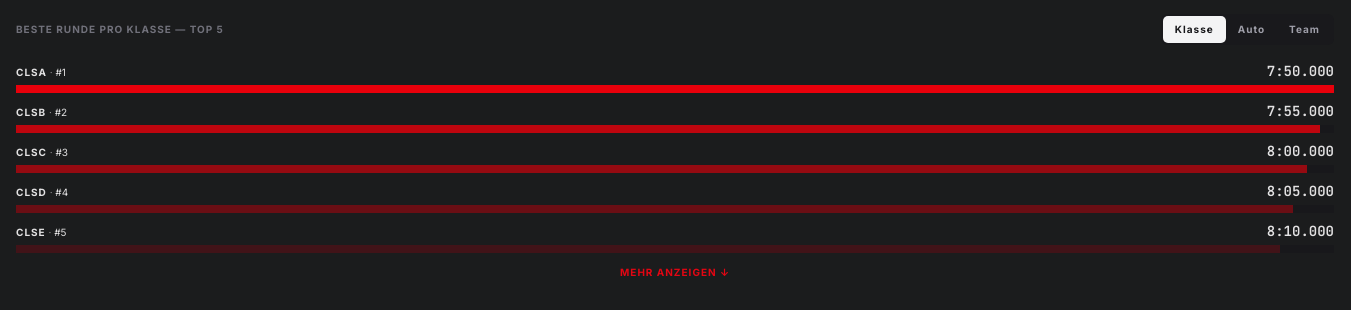
Test: BestLapPerClassChart › mobile expander › expands to all rows and reverts heading when the button is clicked
Step 1. Click the button with test id "best-lap-expand" → (675, 272), box [16,253,1334,292]
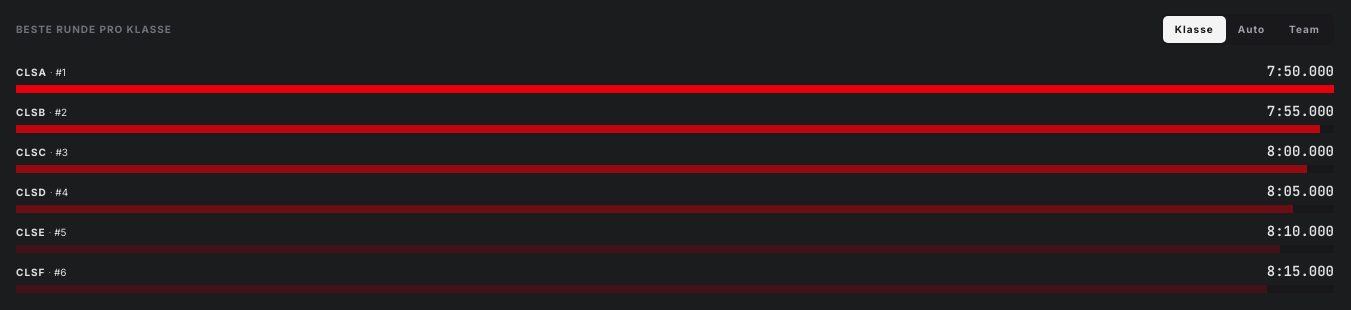
Now the number of list items is 6, box [16,61,1334,93]; [16,101,1334,133]; [16,141,1334,173]; [16,181,1334,213]; [16,221,1334,253]; [16,261,1334,293]
Now the text "ClsF" is shown, box [16,266,46,278]
Now the button with test id "best-lap-expand" is gone
